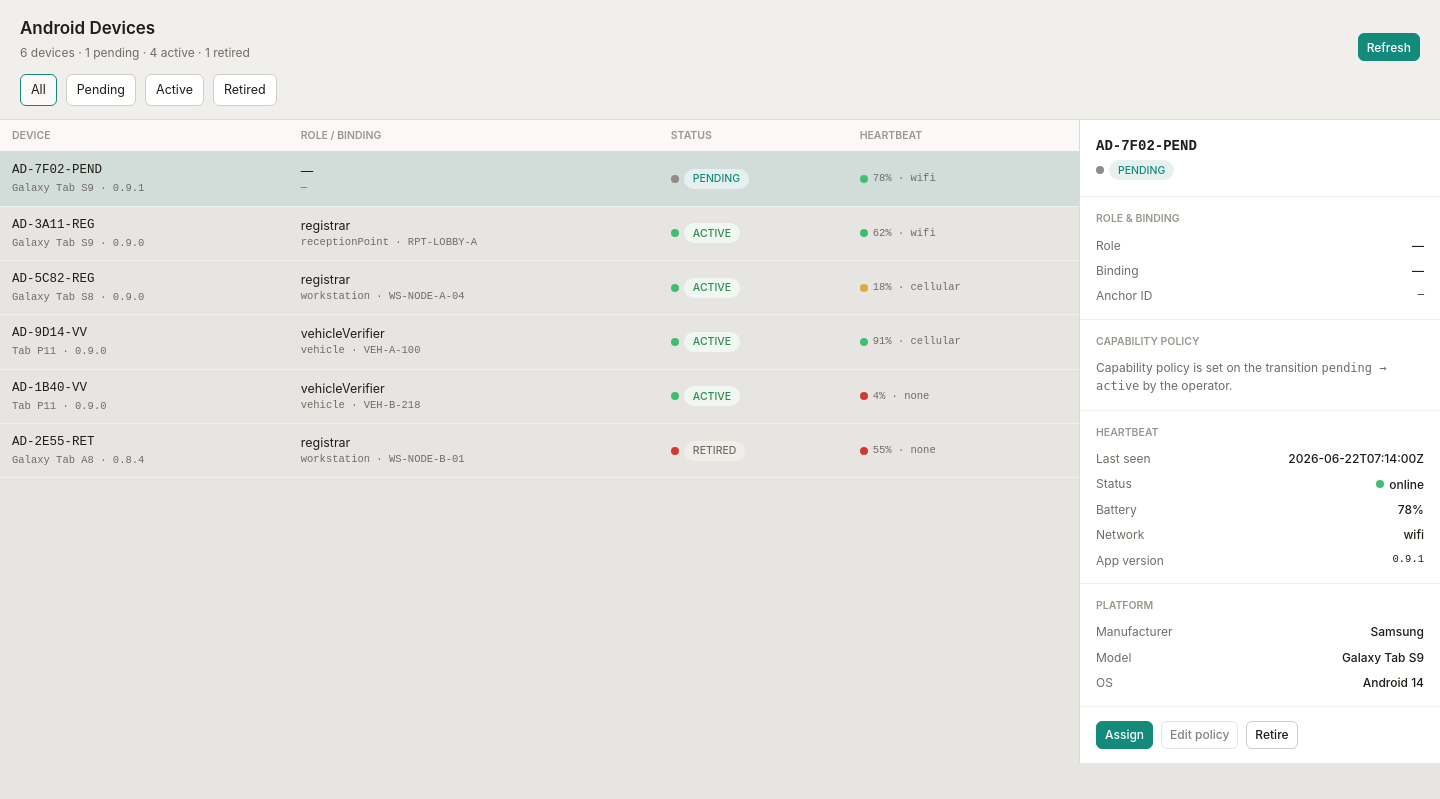
AndroidDevicesScreen › detail aside surfaces canonical role + binding + policy + heartbeat sections
The width and height of the screenshot is (1440, 799).
Expected: the button "AD-7F02-PEND Galaxy Tab S9 · 0.9.1" is shown, [12,161,277,197]
Click the button "AD-3A11-REG Galaxy Tab S9 · 0.9.0": click(53, 225) [12,216,277,251]
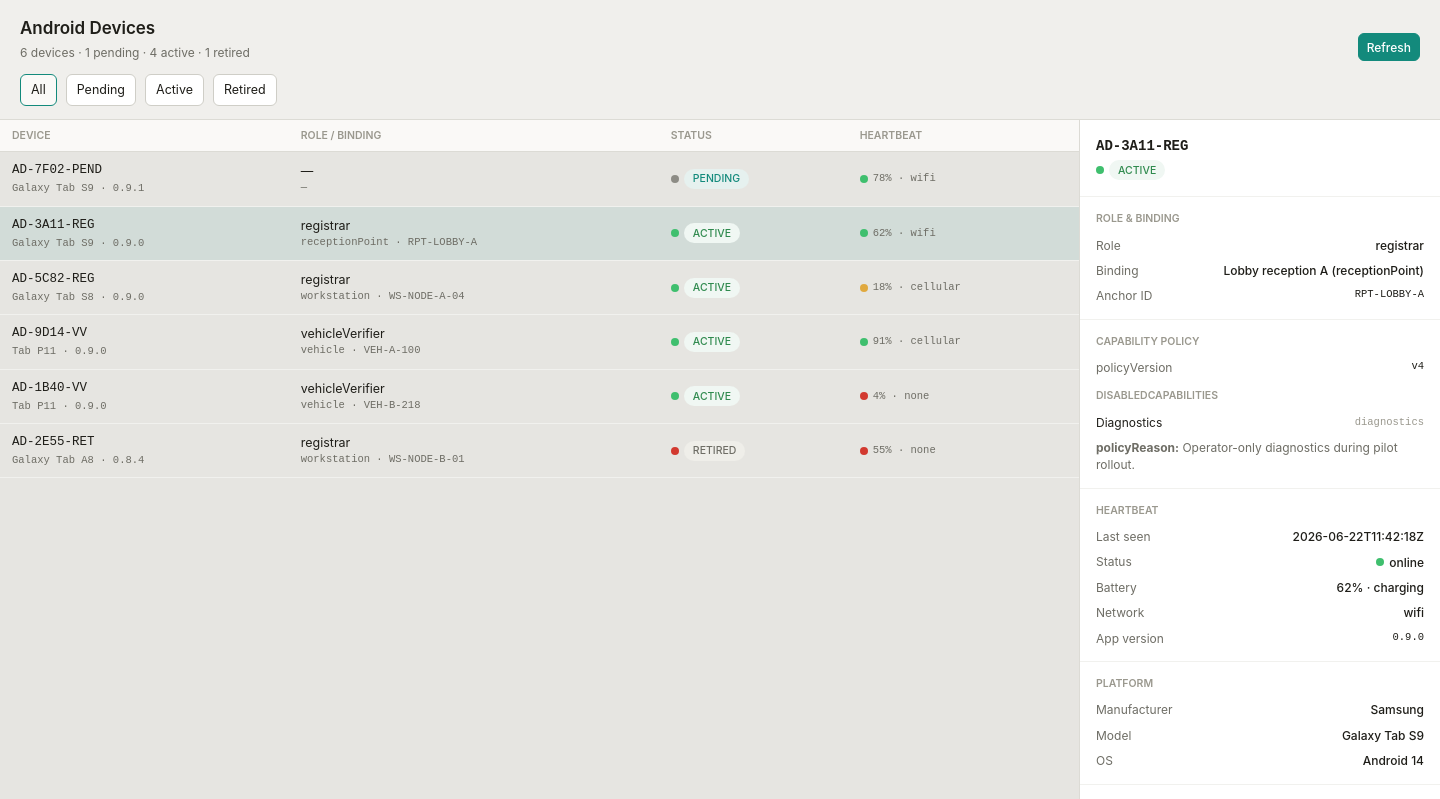
Now the text "diagnostics" is shown, box [1355,415,1424,430]
Now the text "policyVersion" is shown, box [1096,359,1172,376]
Now the text "disabledCapabilities" is shown, box [1096,389,1218,402]
